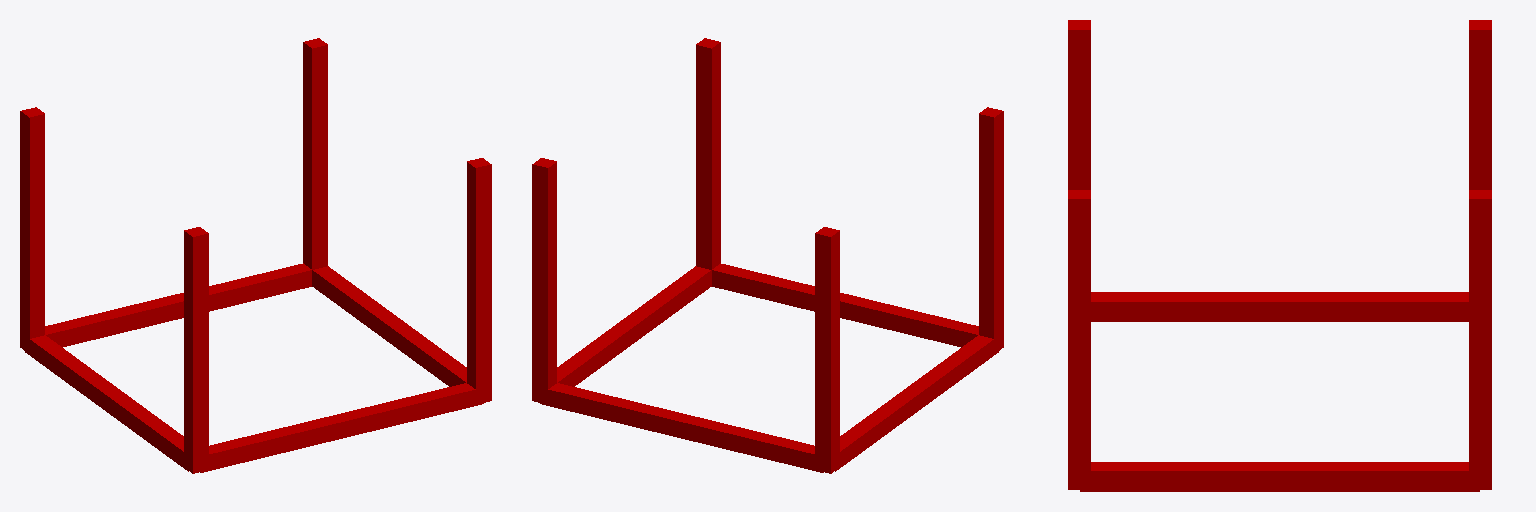
URDF robot description (CartMan):
<?xml version="1.0"?>
<robot name="CartMan">

    <!--This model has been redesigned based in work of team TU Delft
        Winners in Amazon Robotics Challenge
        https://github.com/warehouse-picking-automation-challenges/team_acrv_2017.git
        http://juxi.net/projects/AmazonRoboticsChallenge/
    -->


  <link name="link_supportz">
    <visual>
        <origin xyz="0.625 0.625 0.470" rpy="0 0 0" />
        <geometry>
          <box size="0.07 0.07 1" />
        </geometry>
        <material name="red">
        <color rgba="0.8 0.0 0.0 1.0"/>
        </material>
    </visual>
    
    <visual>
        <origin xyz="-0.625 0.625 0.470" rpy="0 0 0" />
        <geometry>
          <box size="0.07 0.07 1" />
        </geometry>
        <material name="red">
        <color rgba="0.8 0.0 0.0 1.0"/>
        </material>
    </visual>
        
    <visual>
        <origin xyz="0.625 -0.625 0.470" rpy="0 0 0" />
        <geometry>
          <box size="0.07 0.07 1" />
        </geometry>
        <material name="red">
        <color rgba="0.8 0.0 0.0 1.0"/>
        </material>
    </visual>
        
    <visual>
        <origin xyz="-0.625 -0.625 0.470" rpy="0 0 0" />
        <geometry>
          <box size="0.07 0.07 1" />
        </geometry>
        <material name="red">
        <color rgba="0.8 0.0 0.0 1.0"/>
        </material>
    </visual>
        
   <visual>
        <origin xyz="0 0.625 0" rpy="0 0 0" />
        <geometry>
          <box size="1.25 0.07 0.07" />
        </geometry>
        <material name="red">
        <color rgba="0.8 0.0 0.0 1.0"/>
        </material>
    </visual>
    
    <visual>
        <origin xyz="0 -0.625 0" rpy="0 0 0" />
        <geometry>
          <box size="1.25 0.07 0.07" />
        </geometry>
        <material name="red">
        <color rgba="0.8 0.0 0.0 1.0"/>
        </material>
    </visual>
        
    <visual>
        <origin xyz="0.625 0 0" rpy="0 0 0" />
        <geometry>
          <box size="0.07 1.25 0.07" />
        </geometry>
        <material name="red">
        <color rgba="0.8 0.0 0.0 1.0"/>
        </material>
    </visual>
        
   <visual>
        <origin xyz="-0.625 0 0" rpy="0 0 0" />
        <geometry>
          <box size="0.07 1.25 0.07" />
        </geometry>
        <material name="red">
        <color rgba="0.8 0.0 0.0 1.0"/>
        </material>
    </visual>
    </link> 

    <link name="base_link">
        <visual>
            <origin rpy="1.570796327 0 0"
                    xyz="0 0 1" />
            <geometry>
                <mesh filename="package://rvizglabre/modelos/cartesian_description/meshes/xAxis.STL" />
            </geometry>
        </visual>

        <!-- Collision For Floor -->
        <collision>
            <origin rpy="0 0 0" xyz="0.0 0.0 -0.05"/>
            <geometry>
                <box size="1.5 1.5 0.01" />
            </geometry>
 <material name="metal">
    <color rgba="0.827450980392 0.827450980392 0.827450980392 1.0"/>
  </material>
        </collision>
    </link>

    <joint name="base_support1" type="fixed">
        <parent link="base_link"/>
        <child link="link_supportz"/>
        <origin rpy="0 0 0" xyz="0 0 0"/>

    </joint> 



    <joint name="joint_1" type="prismatic">
        <parent link="base_link" />
        <child link="x_axis_link" />
        <limit effort="1000.0" lower="0"
               upper="0.98" velocity="1.0" />
        <origin rpy="1.570796327 0 0"
                xyz="-0.5 0 1" />
    </joint>

    <link name="x_axis_link">
        <visual>
            <geometry>
                <mesh filename="package://rvizglabre/modelos/cartesian_description/meshes/yAxis.STL" />
            </geometry>
        </visual>

        <collision>
            <origin rpy="0 0 0" xyz="0.0 0.0 0.0"/>
            <geometry>
                <box size="0.1 0.08 1.1" />
            </geometry>
            <material name="darkred">
                <color rgba=".5 .1 .1 1"/>
            </material>
        </collision>

    </link>
 

    <joint name="joint_2" type="prismatic">
        <axis xyz="0 0 1"/>
        <parent link="x_axis_link"/>
        <child link="y_axis_link"/>
        <limit effort="1000.0" lower="0"
               upper="0.92" velocity="1.0" />
        <origin rpy="0 0 0"
                xyz="0 0 -0.45" />
    </joint>

    <link name="y_axis_link">
        <visual>
            <geometry>
                <mesh filename="package://rvizglabre/modelos/cartesian_description/meshes/yAxisCarriage.STL" />
            </geometry>
        </visual>

    </link>

    <joint name="joint_3" type="prismatic">
        <axis xyz="0 1 0"/>
        <parent link="y_axis_link"/>
        <child link="z_axis_link"/>
        <limit effort="1000.0" lower="0"
               upper="0.5" velocity="1.0" />
        <origin rpy="0 0 0"
                xyz="0 -0.55 0" />
    </joint>

    <link name="z_axis_link">
        <visual>
            <geometry>
                <mesh filename="package://rvizglabre/modelos/cartesian_description/meshes/zAxis.STL"/>
            </geometry>
            <origin rpy="0 0 3.14" xyz="0 -0.038 0" />
        </visual>

<!--         <visual>
            <geometry>
                <mesh filename="package://rvizglabre/modelos/cartesian_description/meshes/yaw.STL"/>
            </geometry>
            <origin rpy="0 0 0" xyz="0 0 0.012"/>
        </visual> -->

    </link>

    <joint name="joint3-tool0" type="fixed">
      <parent link="z_axis_link"/>
      <child link="tool0"/>
      <origin rpy="0 0 0" xyz="0 0 0"/>
    </joint>

      <link name="tool0"/>

</robot>

--- What the picture shows (computed from the rendered views, not written in the file) ---
Views: 3 orthographic renders of the robot side by side, from view 1: azimuth 30°, elevation 25°; view 2: azimuth 150°, elevation 25°; view 3: azimuth 270°, elevation 25°.
Model CartMan with 6 links and 5 joints (3 prismatic, 2 fixed), rooted at base_link, posed every joint at zero.
Visible links, largest first — view 1: link_supportz; view 2: link_supportz; view 3: link_supportz.
Boxes of the visible links, x1,y1,x2,y2 form: link_supportz: (20,38,491,473); link_supportz: (532,38,1003,473); link_supportz: (1068,20,1491,491).
Size in the robot's own frame: 1.32 by 1.32 by 1 metres.
0 mesh visuals loaded from 4 distinct referenced files (none loaded); not drawn: 4 (reference not matched to a file when rendering).
